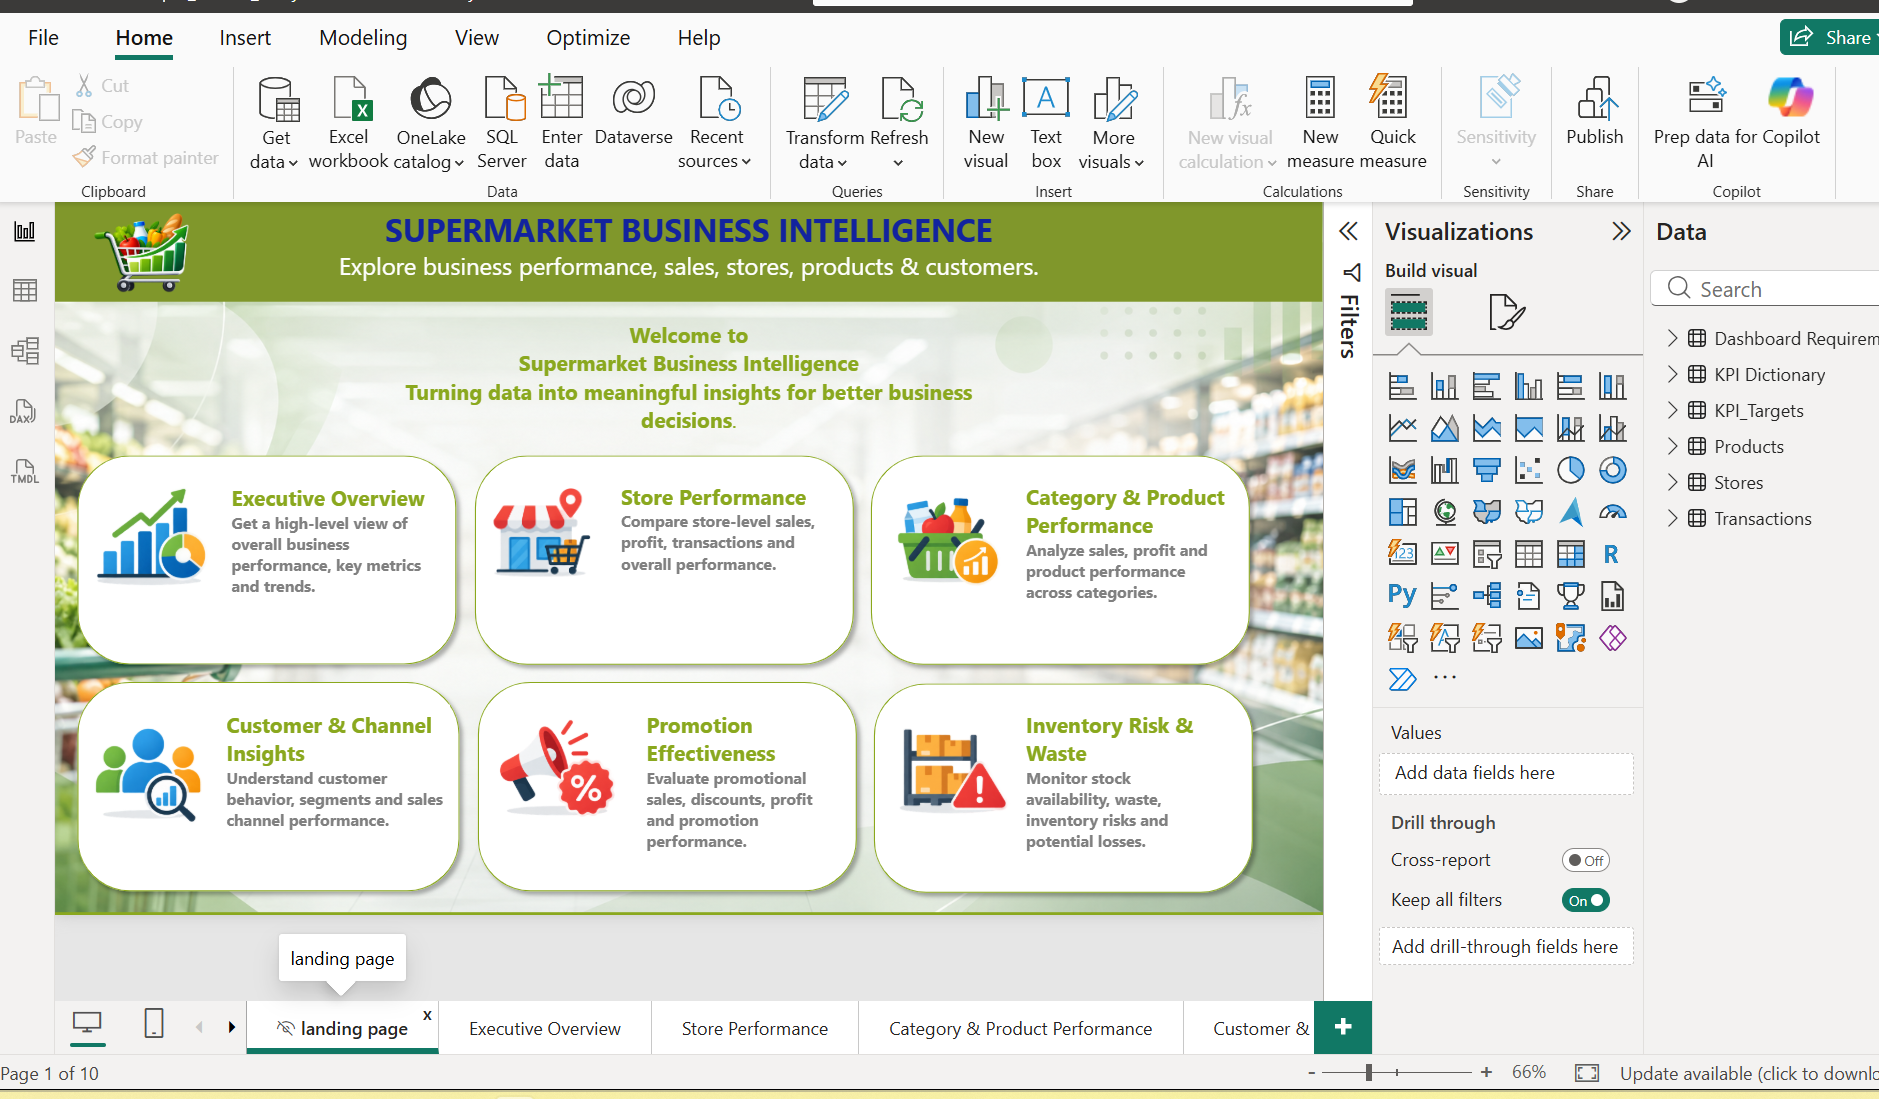

The dashboard page shown, as its layout file describes it:
{"tool":"powerbi","page":{"name":"Landing page2","canvas":[1280,720],"ordinal":9},"visuals":[{"type":"image","box":[0,0,1279.5,719.2],"z":0}]}

Visuals, with their boxes on the page's 1280x720 design canvas (x1, y1, x2, y2). These are canvas units, not pixel positions in the 1879x1099 screenshot, which may show the page scaled, cropped or inside an application window:
image: Rect(0, 0, 1280, 719)
